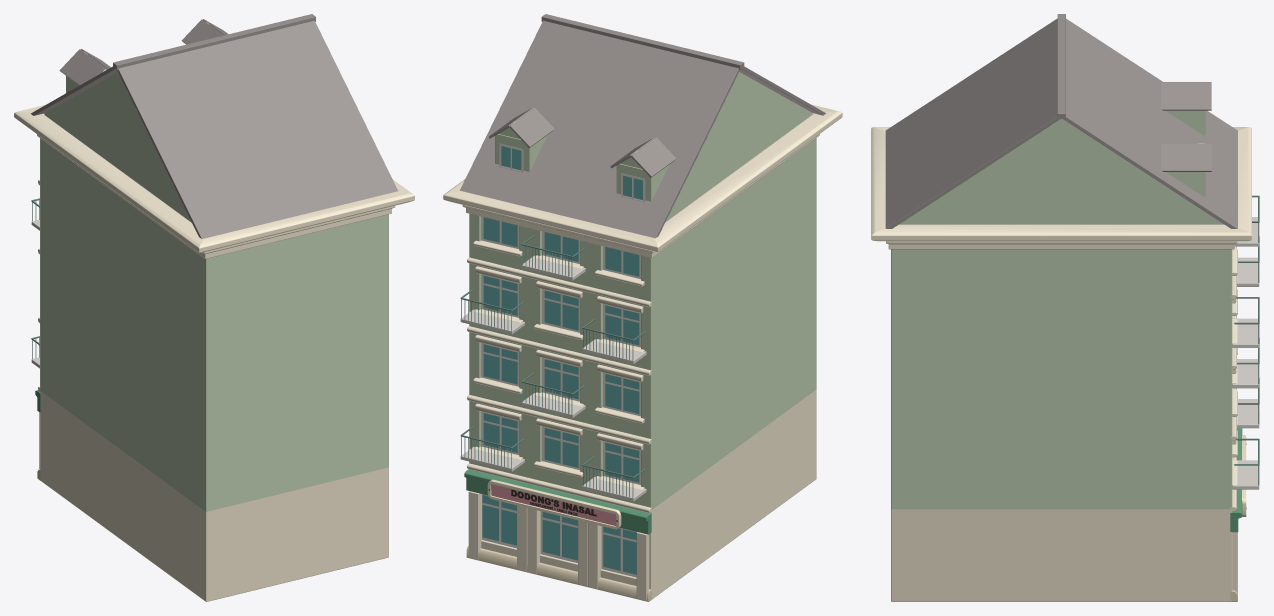
The model's file is far_shophouse_07.glb.
The picture shows the model from 3 angles, left to right: view 1: azimuth 30°, elevation 25°; view 2: azimuth 150°, elevation 25°; view 3: azimuth 270°, elevation 25°; orthographic projection. The views are drawn at different scales.
Visible parts, largest first — view 1: shell, props, trim; view 2: shell, props, trim, frames, sign_dodong_s_inasal, sign_dodong_s_inasal_text; view 3: shell, props, trim.
Boxes of the visible parts, x1=… form: shell: x1=40, y1=115, x2=388, y2=601; props: x1=31, y1=14, x2=397, y2=368; trim: x1=14, y1=105, x2=414, y2=480; shell: x1=469, y1=115, x2=816, y2=599; props: x1=460, y1=14, x2=825, y2=501; trim: x1=443, y1=104, x2=842, y2=601; frames: x1=481, y1=143, x2=644, y2=577; sign_dodong_s_inasal: x1=487, y1=479, x2=621, y2=529; sign_dodong_s_inasal_text: x1=511, y1=489, x2=596, y2=516; shell: x1=891, y1=249, x2=1232, y2=601; props: x1=885, y1=14, x2=1259, y2=489; trim: x1=871, y1=127, x2=1251, y2=601.
Size of the model in its own units: 10.5 by 22.28 by 15.91.
